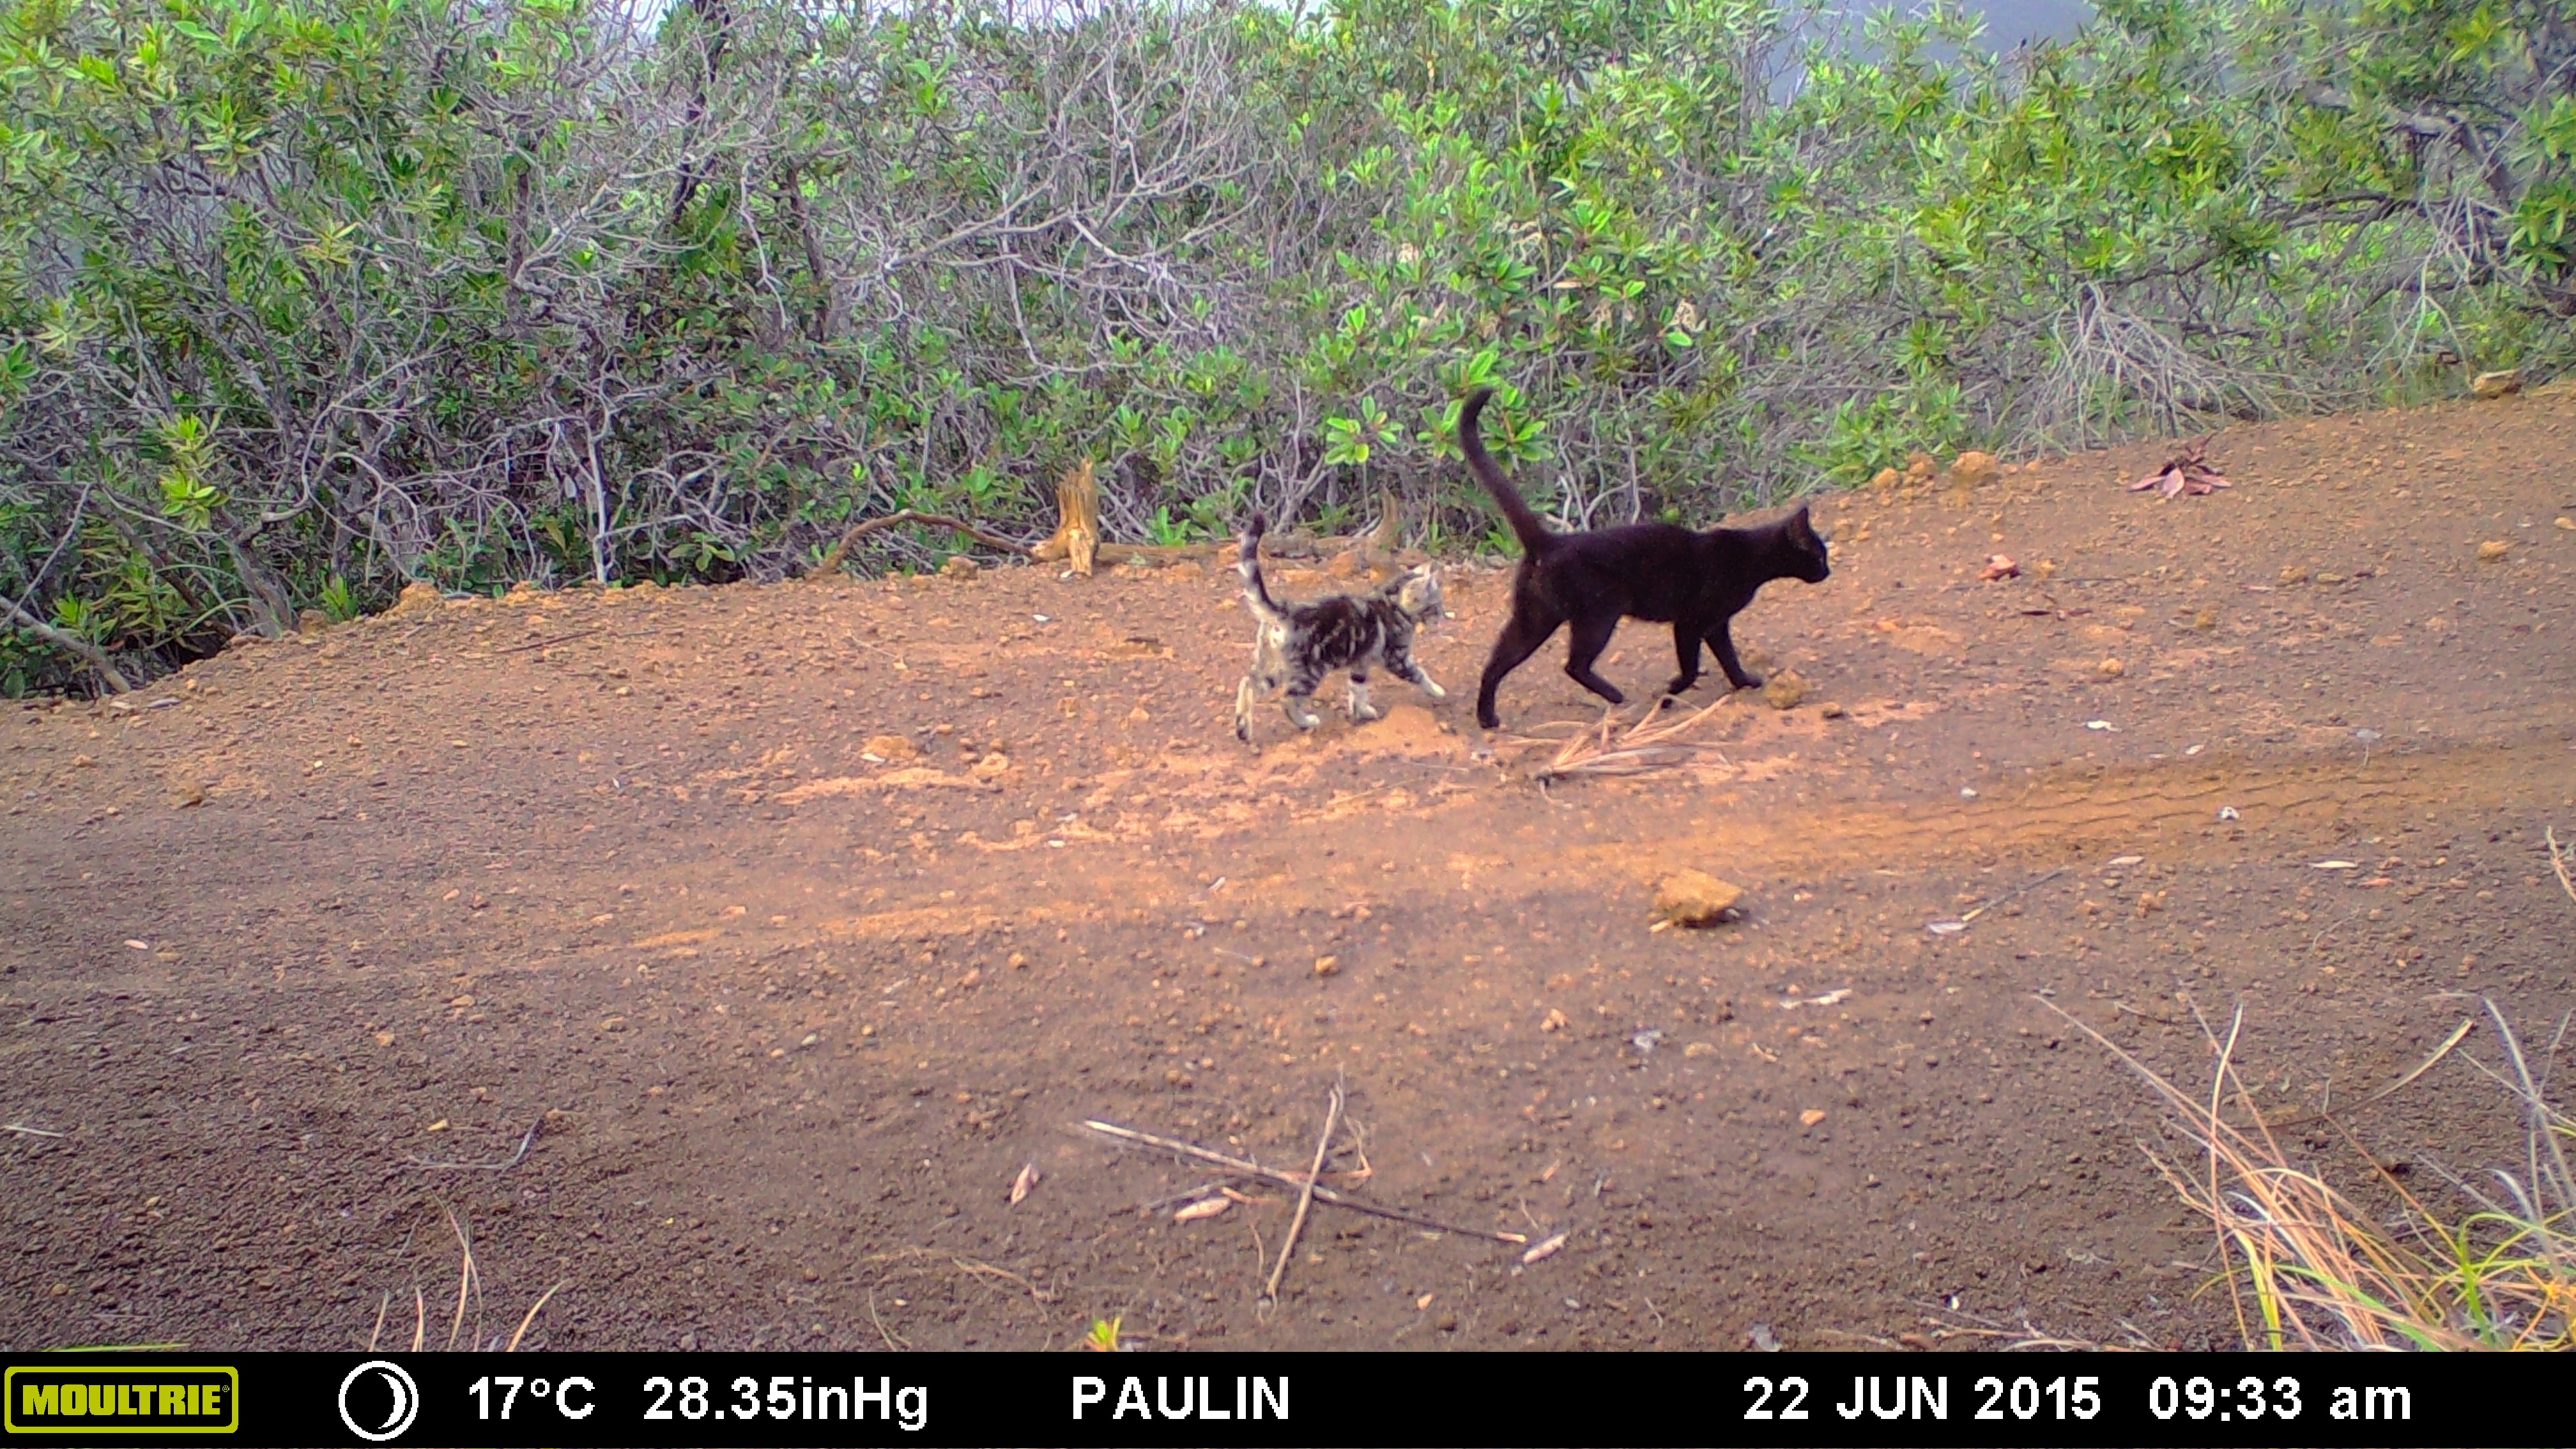cat: (1451, 361, 1854, 720), (1231, 497, 1465, 763)
